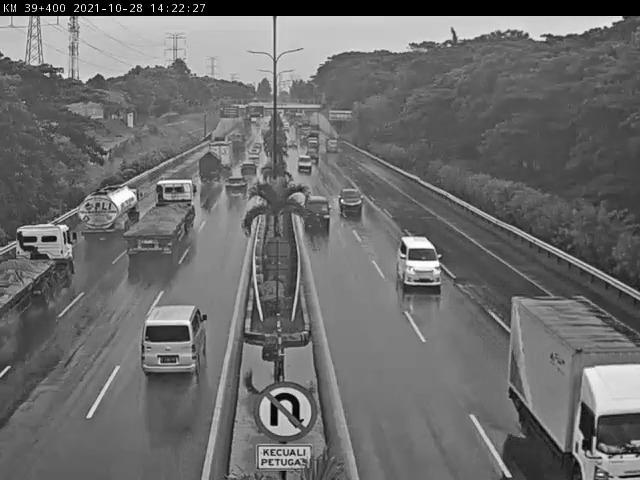big truck: (6, 224, 76, 305), (155, 177, 195, 245), (211, 139, 234, 167)
car: (142, 302, 207, 385), (390, 230, 446, 298), (300, 191, 332, 233), (335, 184, 367, 218), (294, 153, 315, 178), (224, 175, 248, 196), (239, 161, 264, 178), (247, 146, 262, 162), (251, 140, 264, 155)
small truck: (502, 286, 640, 480), (74, 182, 144, 234), (198, 153, 223, 186)
